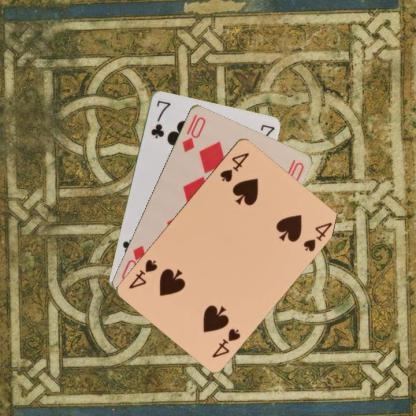10d: (179, 111, 207, 153)
4s: (217, 150, 251, 183), (209, 325, 242, 359)
7c: (148, 97, 172, 140)
